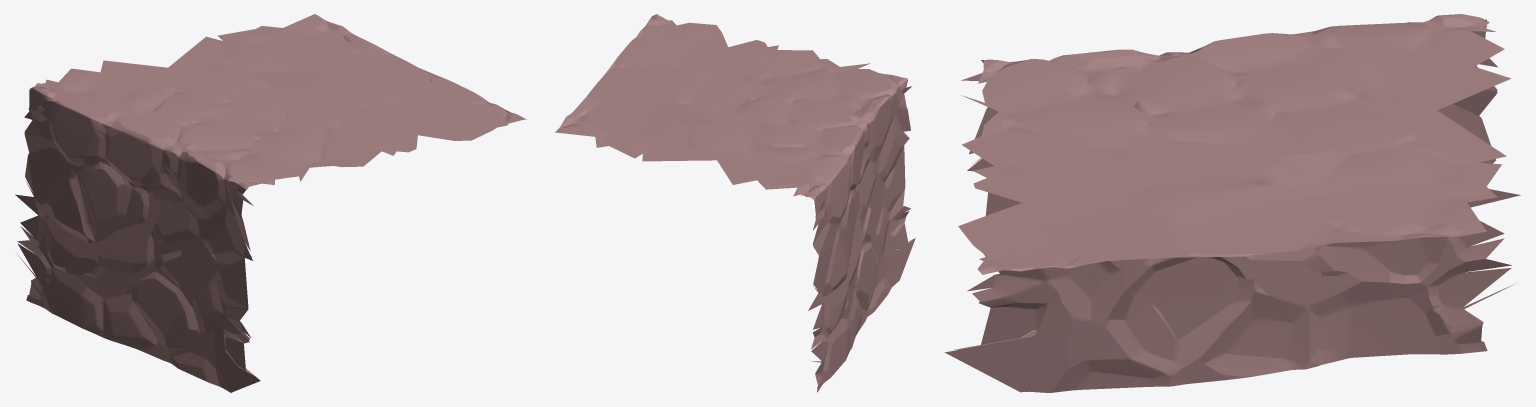
The model's file is pleateauArea1.fbx_PolyShape__46__002LODs.fbx.
The picture shows the model from 3 angles, left to right: view 1: azimuth 30°, elevation 25°; view 2: azimuth 150°, elevation 25°; view 3: azimuth 270°, elevation 25°; orthographic projection. The views are drawn at different scales.
Visible parts, largest first — view 1: PolyShape (46).002_LOD0; view 2: PolyShape (46).002_LOD0; view 3: PolyShape (46).002_LOD0.
Boxes of the visible parts, x1,y1,x2,y2 form: PolyShape (46).002_LOD0: (15, 14, 526, 392); PolyShape (46).002_LOD0: (555, 14, 915, 392); PolyShape (46).002_LOD0: (944, 14, 1520, 392).
Size of what is drawn, in the model's own units: 6886 by 4180 by 6344.
